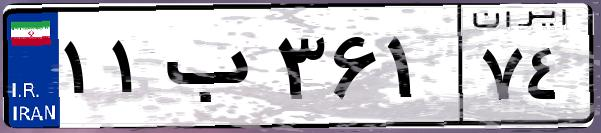1: (385, 28, 445, 110), (57, 26, 110, 100), (110, 28, 158, 98)
3: (270, 28, 330, 110)
4: (525, 38, 570, 115)
6: (330, 28, 385, 110)
7: (475, 38, 525, 113)
ب: (158, 20, 270, 120)
